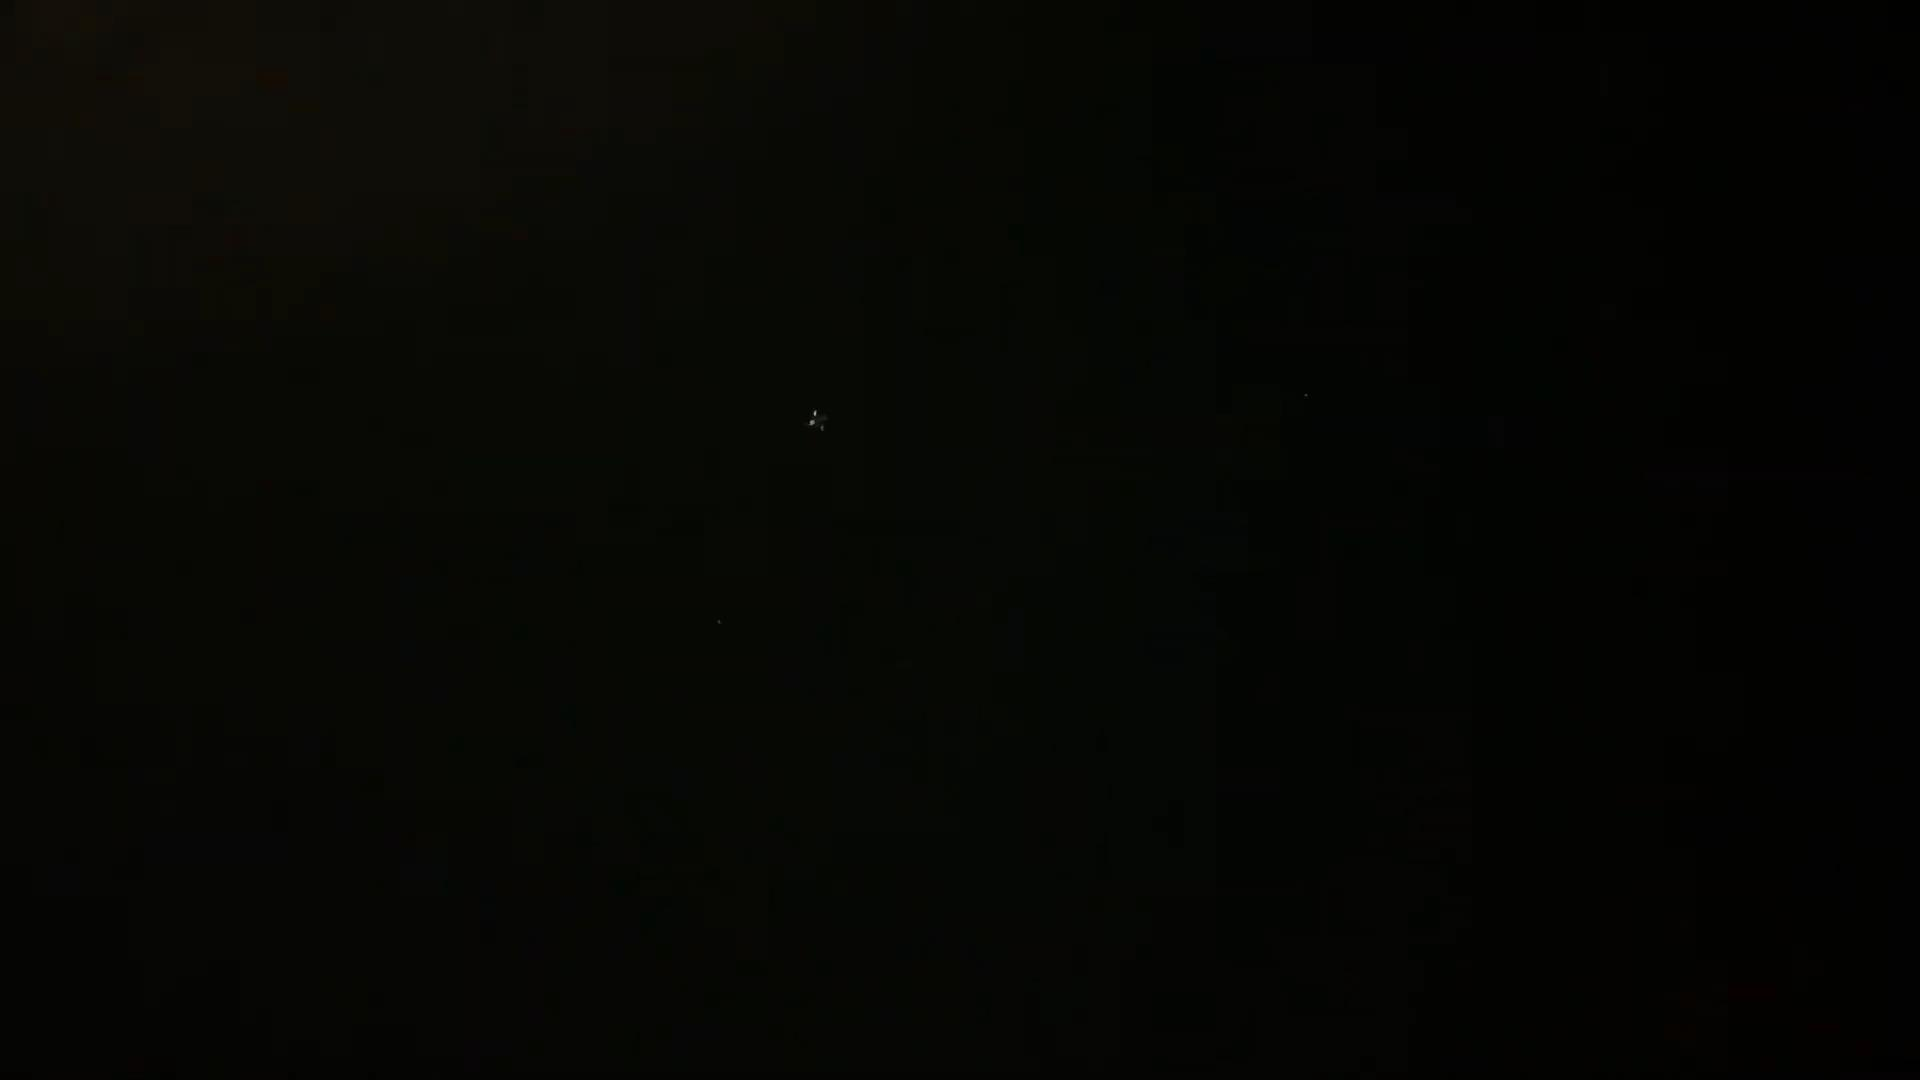Plane: (800, 396, 847, 465)
